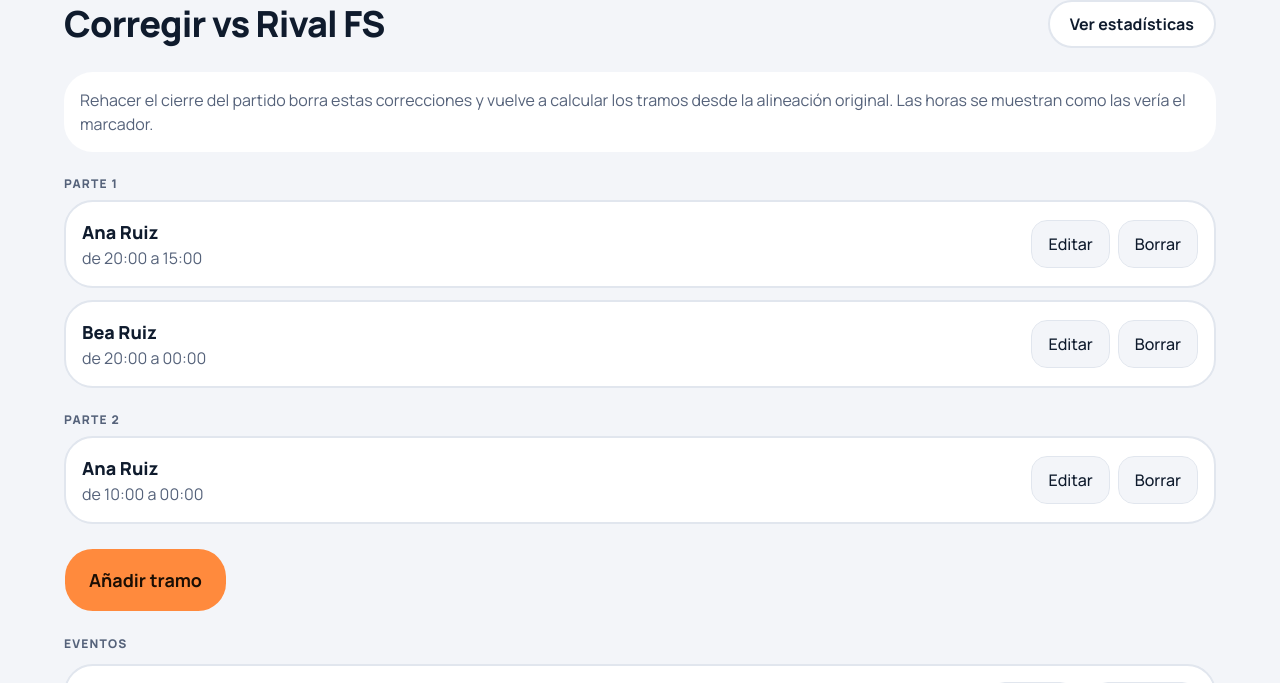
CorregirPage › no envía nada si no se cambia nada
The width and height of the screenshot is (1280, 683).
expect the list named "Tramos de la parte 1" is shown: met, box x1=64 y1=200 x2=1216 y2=388
Click the button with aria-label "Editar tramo de Ana Ruiz de 20:00 a 15:00": (1071, 244) x1=1032 y1=220 x2=1110 y2=268
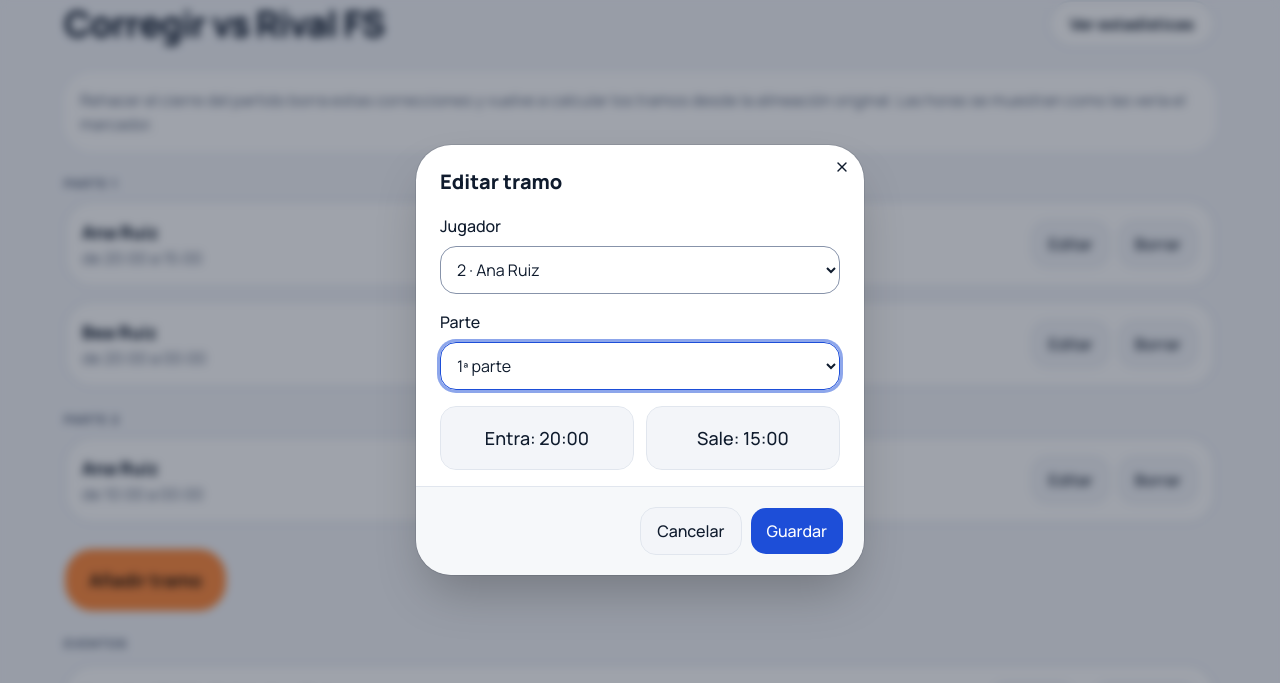
Click the button "Guardar": (797, 531) x1=750 y1=507 x2=844 y2=555
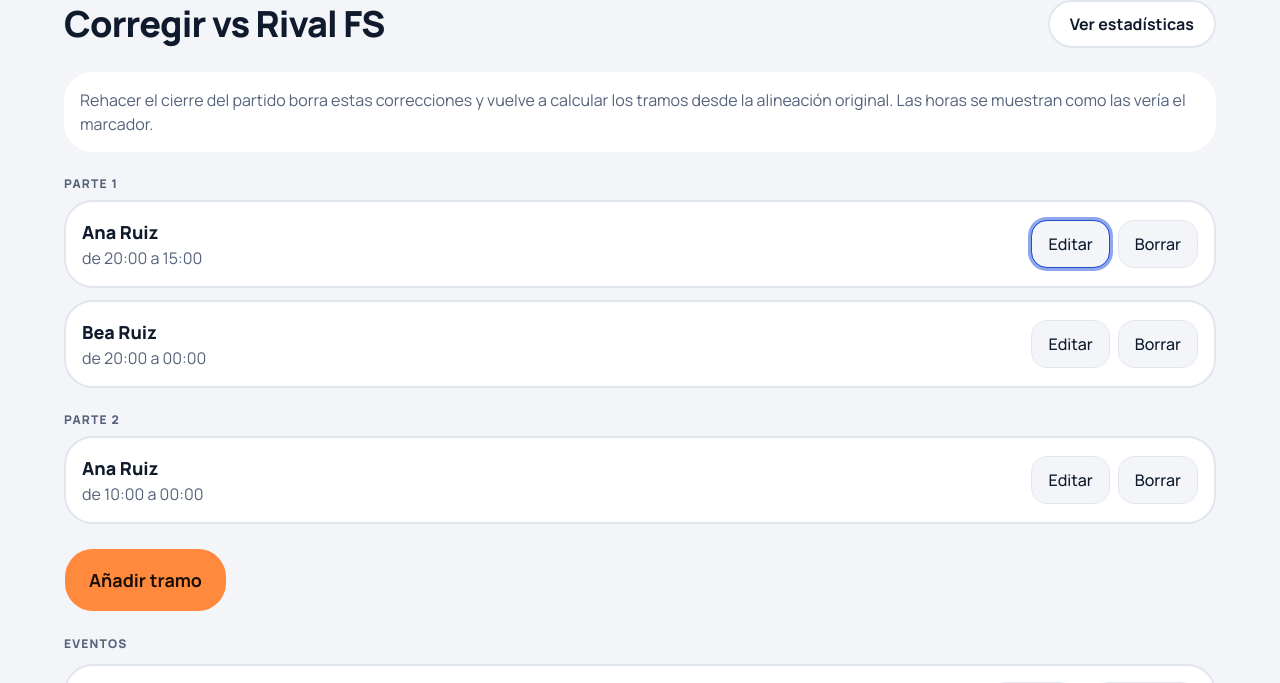
expect the dialog is gone: met
